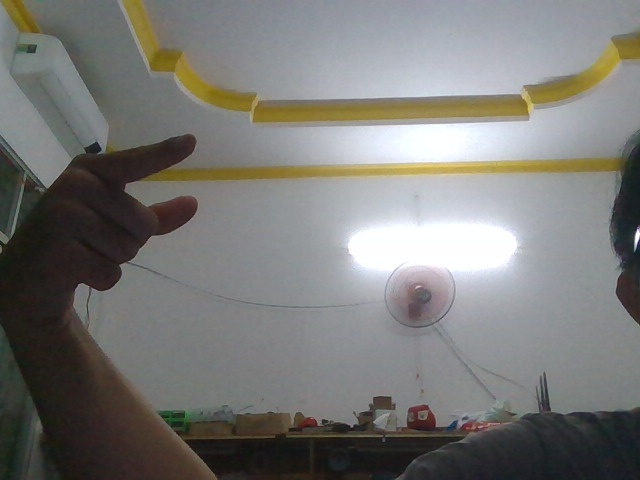turn_left: (1, 126, 203, 322)
